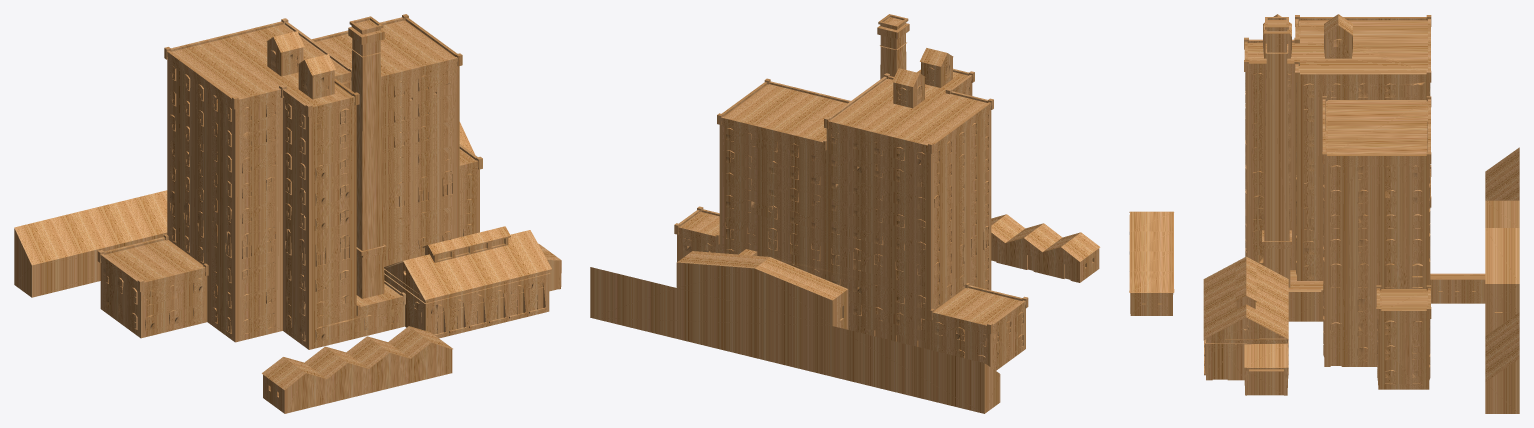
Rendered from Sugar.FBX.
3 renders of one model, left to right at view 1: azimuth 30°, elevation 25°; view 2: azimuth 150°, elevation 25°; view 3: azimuth 270°, elevation 25°, orthographic. The views are drawn at different scales.
Parts seen in each view (by area): view 1: Model; view 2: Model; view 3: Model.
Boxes of the visible parts, left/top/right/bottom form: Model: left=14, top=14, right=561, bottom=413; Model: left=590, top=14, right=1100, bottom=413; Model: left=1129, top=14, right=1519, bottom=413.
Bounding box in the file's own units: 47.12 × 30.1 × 36.82.
Materials: 1 (1 with a texture image).
